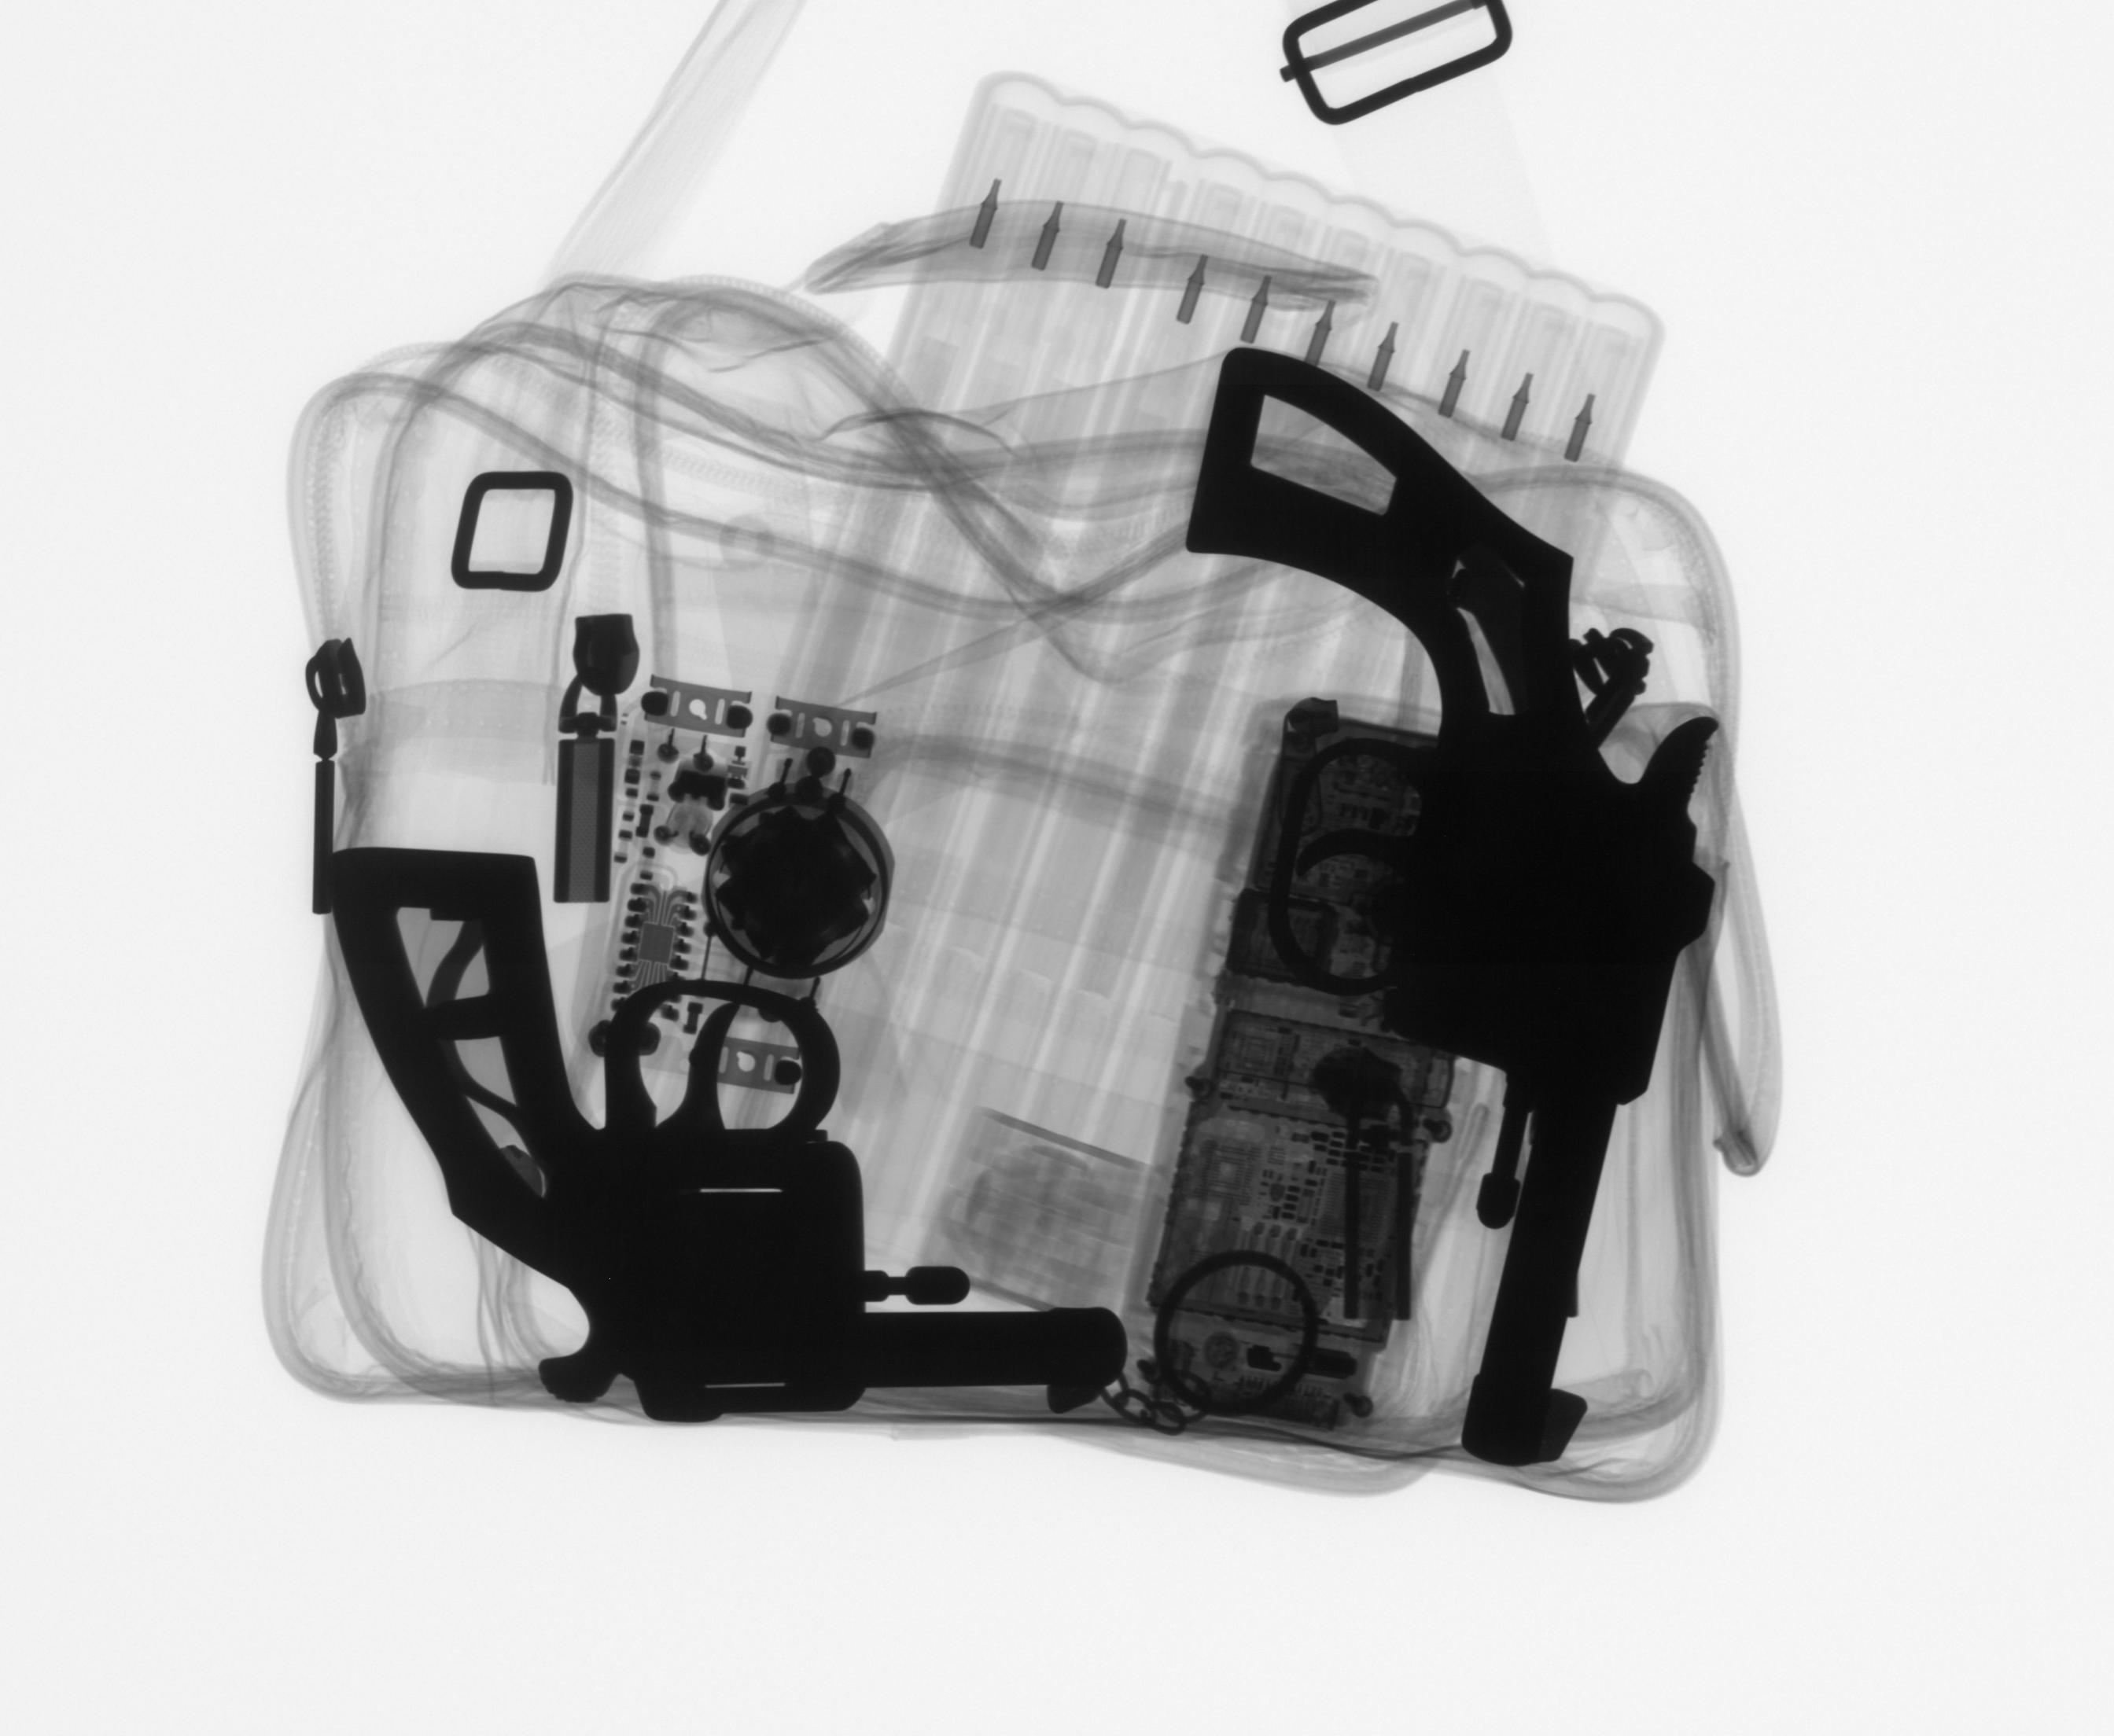Handgun: (1174, 336, 1729, 1475), (314, 840, 1142, 1435)
